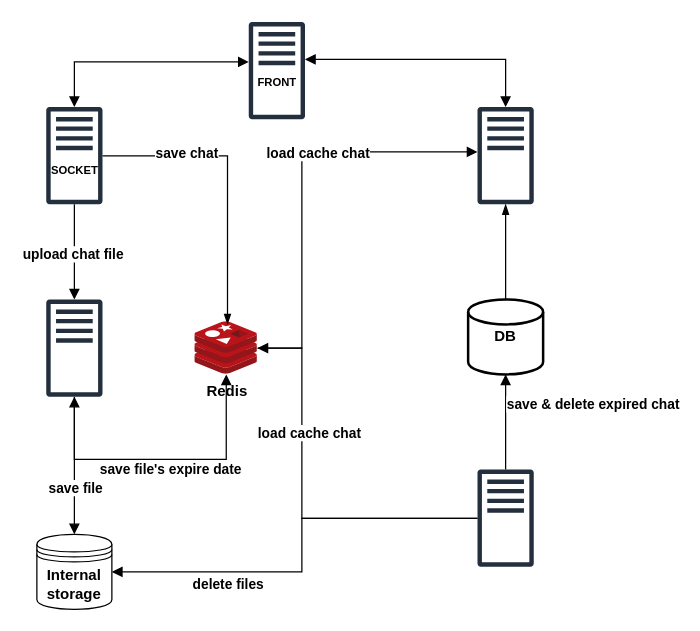
The diagram is 700 pixels wide and 631 high, and some of its shapes have lost their labels. The shapes that lost their labels are listed below. From the top down, each one's centre as x and y in pixels, then its label:
At point (505, 155): "API".
At point (74, 347): "FILE".
At point (505, 517): "WORKER".
